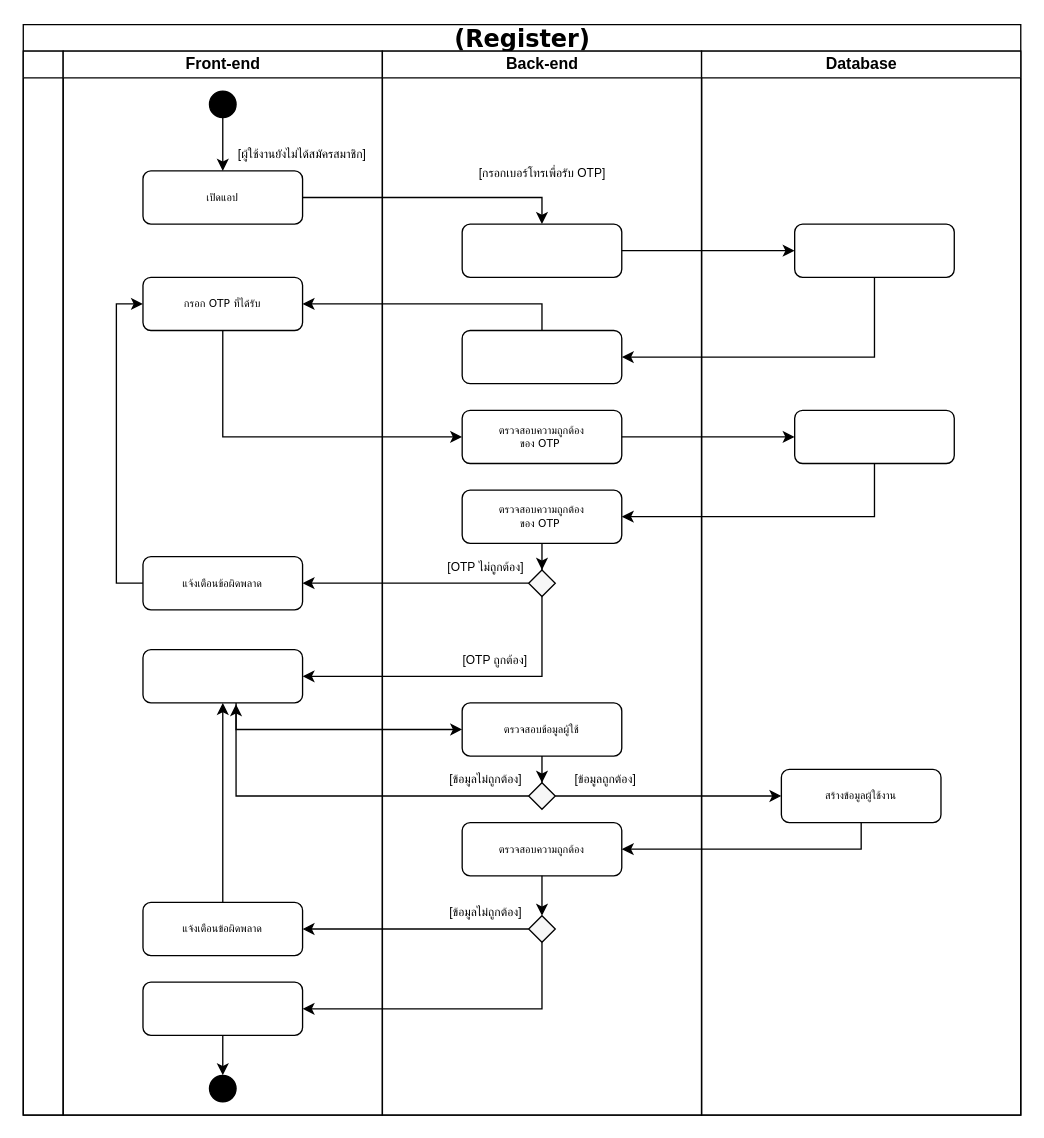
The diagram is 1044 pixels wide and 1138 high, and some of its shapes have lost their labels. Here are the shapes that lost their labels. From the top down, the centre of each, then its label:
(x=541, y=250): ตรวจสอบข้อมูลเบอร์ผู้ใช้
(x=873, y=250): สร้าง OTP
(x=541, y=356): ตรวจสอบความถูกต้อง และส่ง OTP ให้ผู้ใช้
(x=873, y=436): ดึงข้อมูลของ OTP
(x=42, y=582): ยังไม่ได้เข้าสู่ระบบ
(x=222, y=675): กรอกข้อมูลผู้ใช้งาน
(x=222, y=1008): เข้าสู่ระบบ
